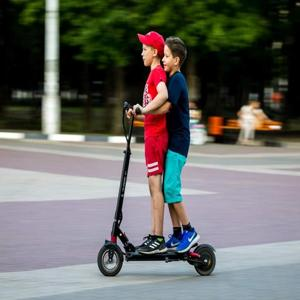human on a scooter: (96, 29, 218, 278)
